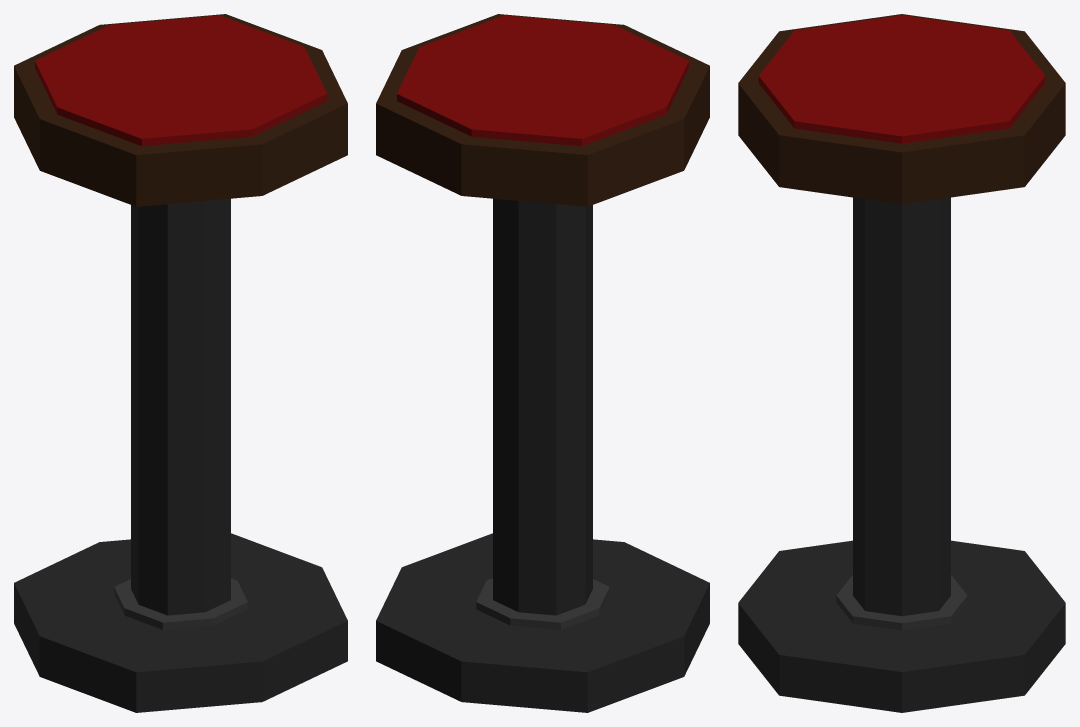
File: Bar_Stool.glb
3 renders of one model, left to right at view 1: azimuth 30°, elevation 25°; view 2: azimuth 150°, elevation 25°; view 3: azimuth 270°, elevation 25°, orthographic.
Parts seen in each view (by area): view 1: Cube; view 2: Cube; view 3: Cube.
Boxes of the visible parts, x1,y1,x2,y2 form: Cube: (14,14,347,712); Cube: (376,14,709,712); Cube: (738,14,1065,712).
Bounding box in the file's own units: 2 × 3.83 × 2.
Materials: 1 (1 with a texture image).
